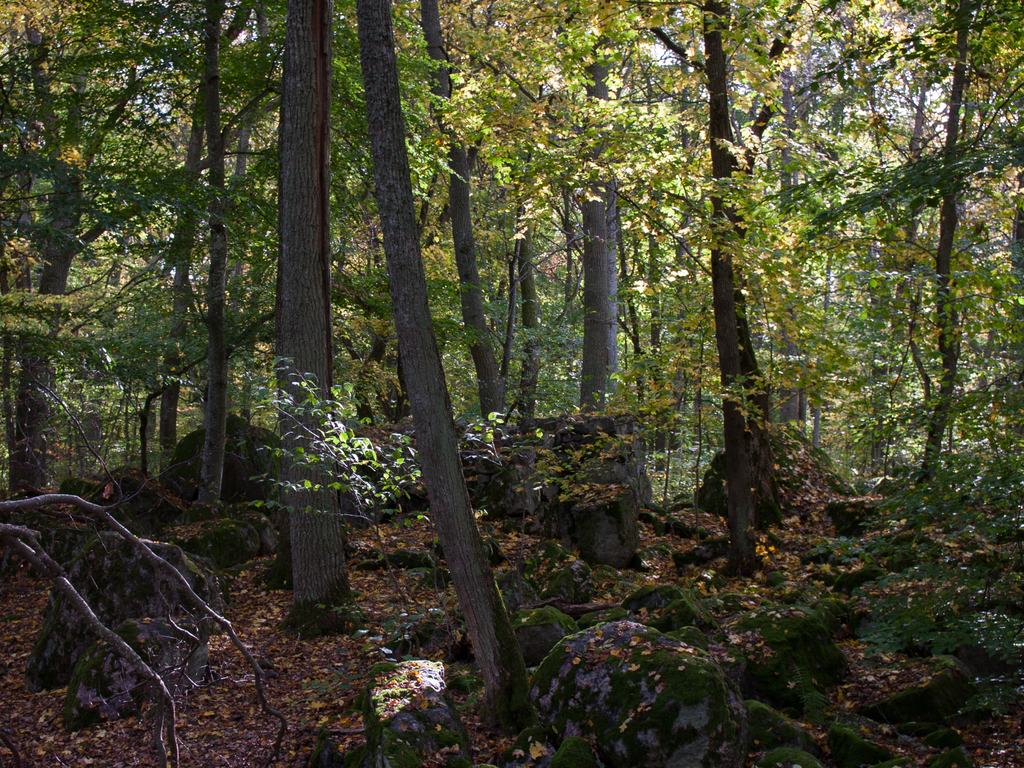Tree: (0, 0, 1023, 719)
